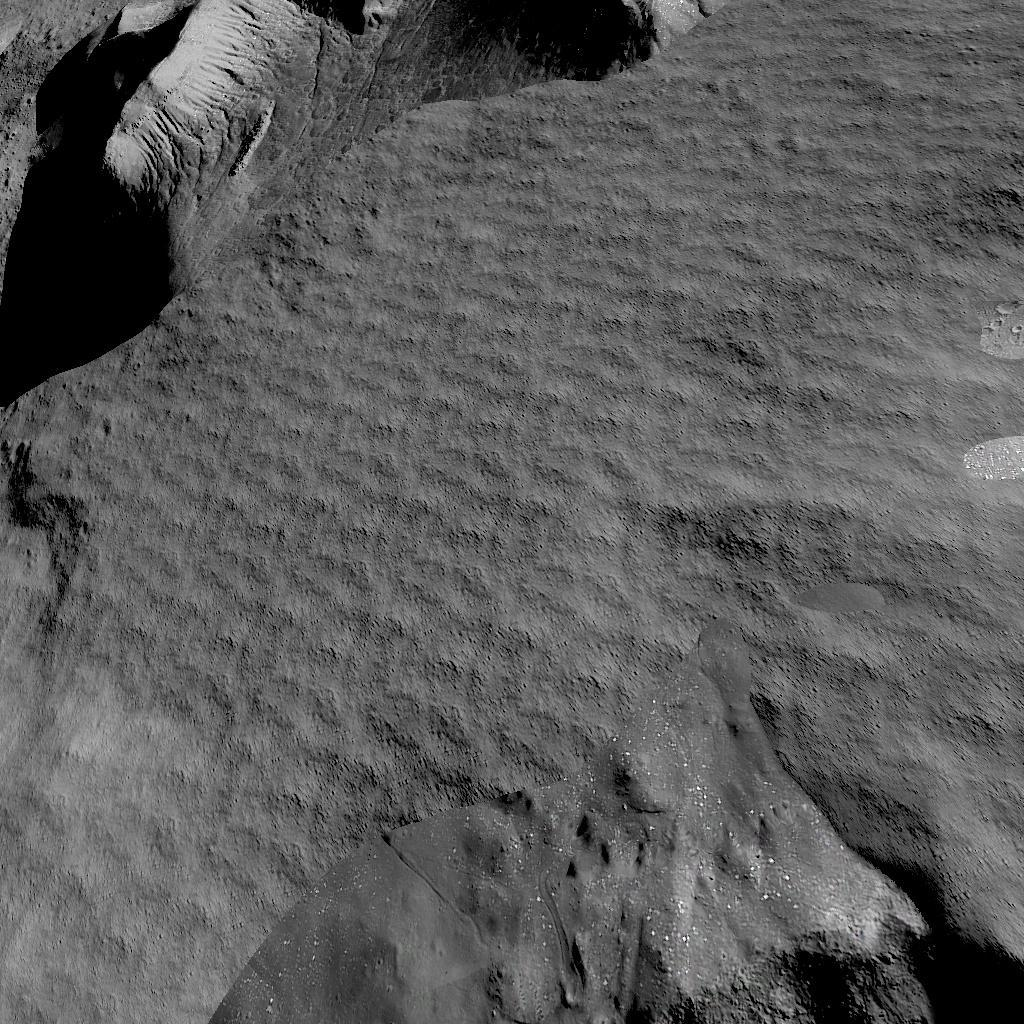Boulders: (0, 0, 727, 418)
Crater: (213, 808, 1024, 1024)
Plan surface: (0, 430, 1024, 795), (741, 0, 1024, 418), (0, 808, 196, 1024)
